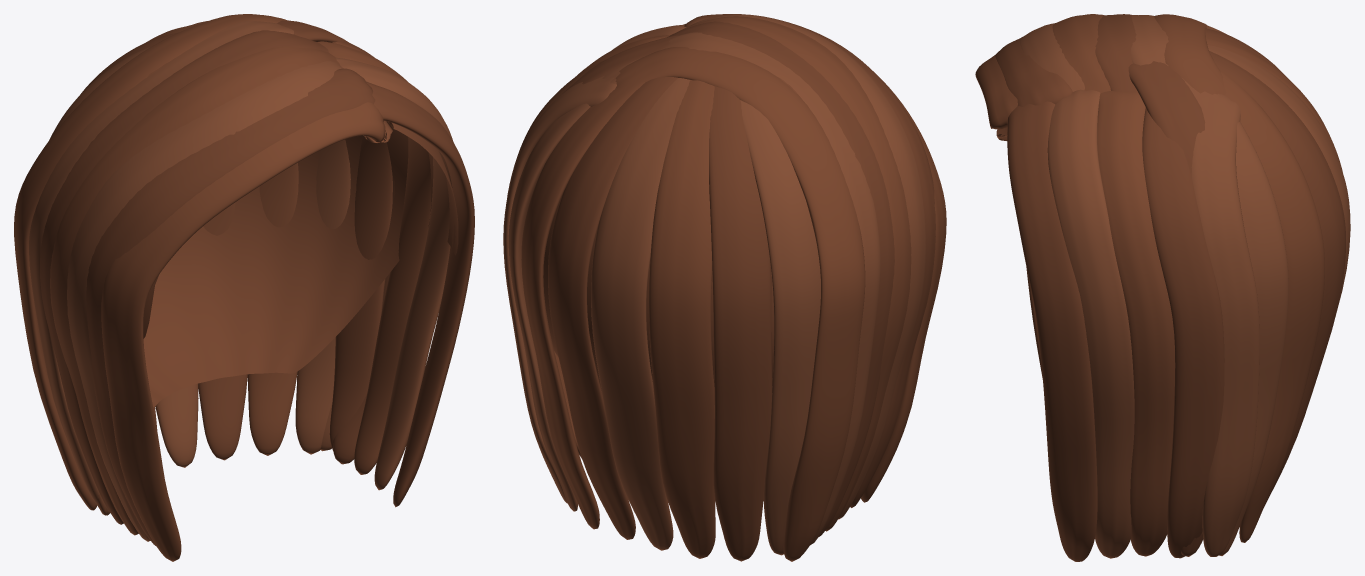
File: Feminine-Feminine-straight-hair261-86e8edb4.glb
3 renders of one model, left to right at view 1: azimuth 30°, elevation 25°; view 2: azimuth 150°, elevation 25°; view 3: azimuth 270°, elevation 25°, orthographic. The views are drawn at different scales.
Visible parts, largest first — view 1: 226 hair / Hair / sculpted 0.001, 226 hair / Hair / sculpted 1.002, 226 hair / Hair / sculpted 2.001, 226 hair / Hair / sculpted 1.001; view 2: 226 hair / Hair / sculpted 0.001, 226 hair / Hair / sculpted 2.001, 226 hair / Hair / sculpted 1.002, 226 hair / Hair / sculpted 1.001; view 3: 226 hair / Hair / sculpted 1.002, 226 hair / Hair / sculpted 2.001, 226 hair / Hair / sculpted 0.001.
Boxes of the visible parts, box(x1,y1,x2,y2) form: 226 hair / Hair / sculpted 0.001: box(14, 14, 431, 561); 226 hair / Hair / sculpted 1.002: box(40, 19, 474, 545); 226 hair / Hair / sculpted 2.001: box(29, 20, 452, 541); 226 hair / Hair / sculpted 1.001: box(143, 123, 458, 407); 226 hair / Hair / sculpted 0.001: box(521, 16, 946, 561); 226 hair / Hair / sculpted 2.001: box(503, 14, 925, 555); 226 hair / Hair / sculpted 1.002: box(507, 14, 935, 561); 226 hair / Hair / sculpted 1.001: box(543, 196, 774, 392); 226 hair / Hair / sculpted 1.002: box(995, 14, 1345, 561); 226 hair / Hair / sculpted 2.001: box(1020, 15, 1350, 558); 226 hair / Hair / sculpted 0.001: box(975, 14, 1342, 556).
Bounding box in the file's own units: 1.01 × 1.23 × 0.8791.
